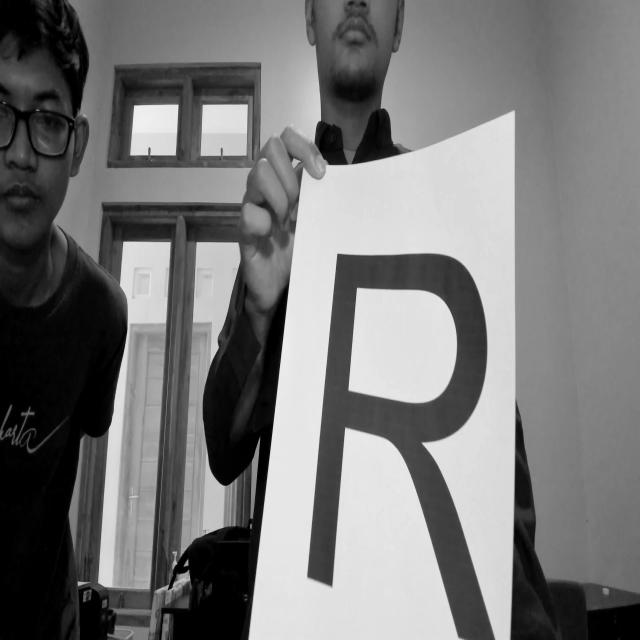r: (300, 223, 492, 640)
